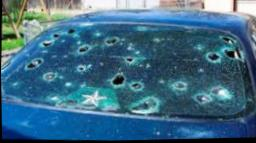Windshield: (1, 22, 255, 123)
